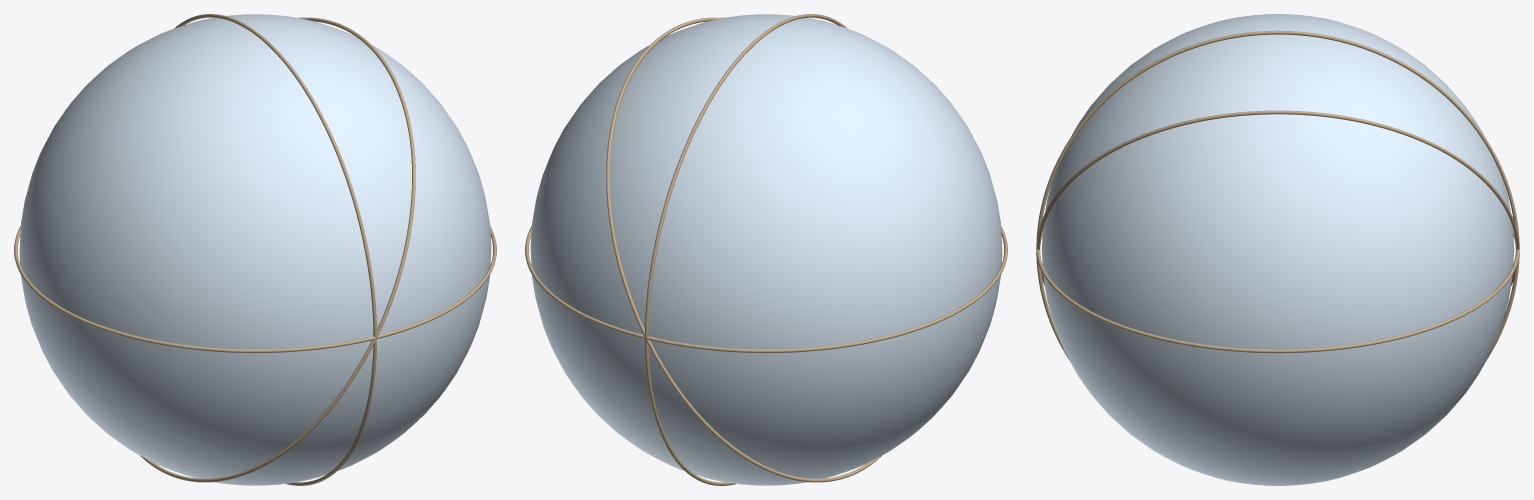
File: sphere-assembly.glb
The picture shows the model from 3 angles, left to right: view 1: azimuth 30°, elevation 25°; view 2: azimuth 150°, elevation 25°; view 3: azimuth 270°, elevation 25°; orthographic projection.
Parts seen in each view (by area): view 1: shell, meridian_b, meridian_a, equator; view 2: shell, meridian_b, meridian_a, equator; view 3: shell, meridian_a, meridian_b, equator.
Part boxes in pixels (bbox=[...]): shell: bbox=[19, 14, 491, 485]; meridian_b: bbox=[140, 17, 415, 482]; meridian_a: bbox=[174, 14, 376, 485]; equator: bbox=[14, 226, 496, 352]; shell: bbox=[530, 14, 1002, 485]; meridian_b: bbox=[606, 17, 881, 482]; meridian_a: bbox=[645, 14, 847, 485]; equator: bbox=[525, 226, 1007, 352]; shell: bbox=[1041, 14, 1514, 485]; meridian_a: bbox=[1036, 30, 1519, 360]; meridian_b: bbox=[1036, 110, 1519, 286]; equator: bbox=[1036, 231, 1519, 353].
Bounding box in the file's own units: 2.05 × 2.05 × 2.05.
